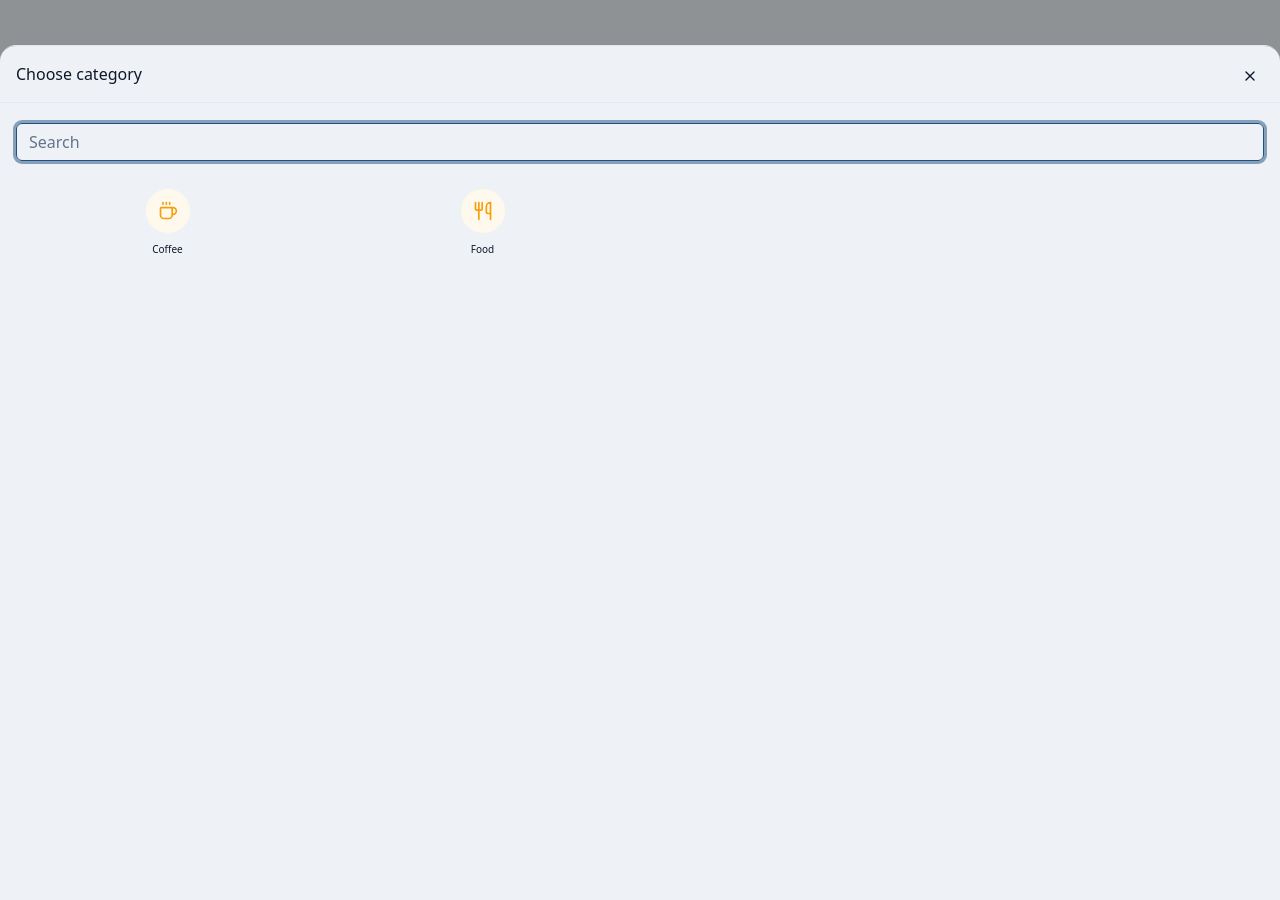
Test case: search filters tiles
Type "food" into the field with placeholder "Search" at (640, 142), box [16,123,1264,161]
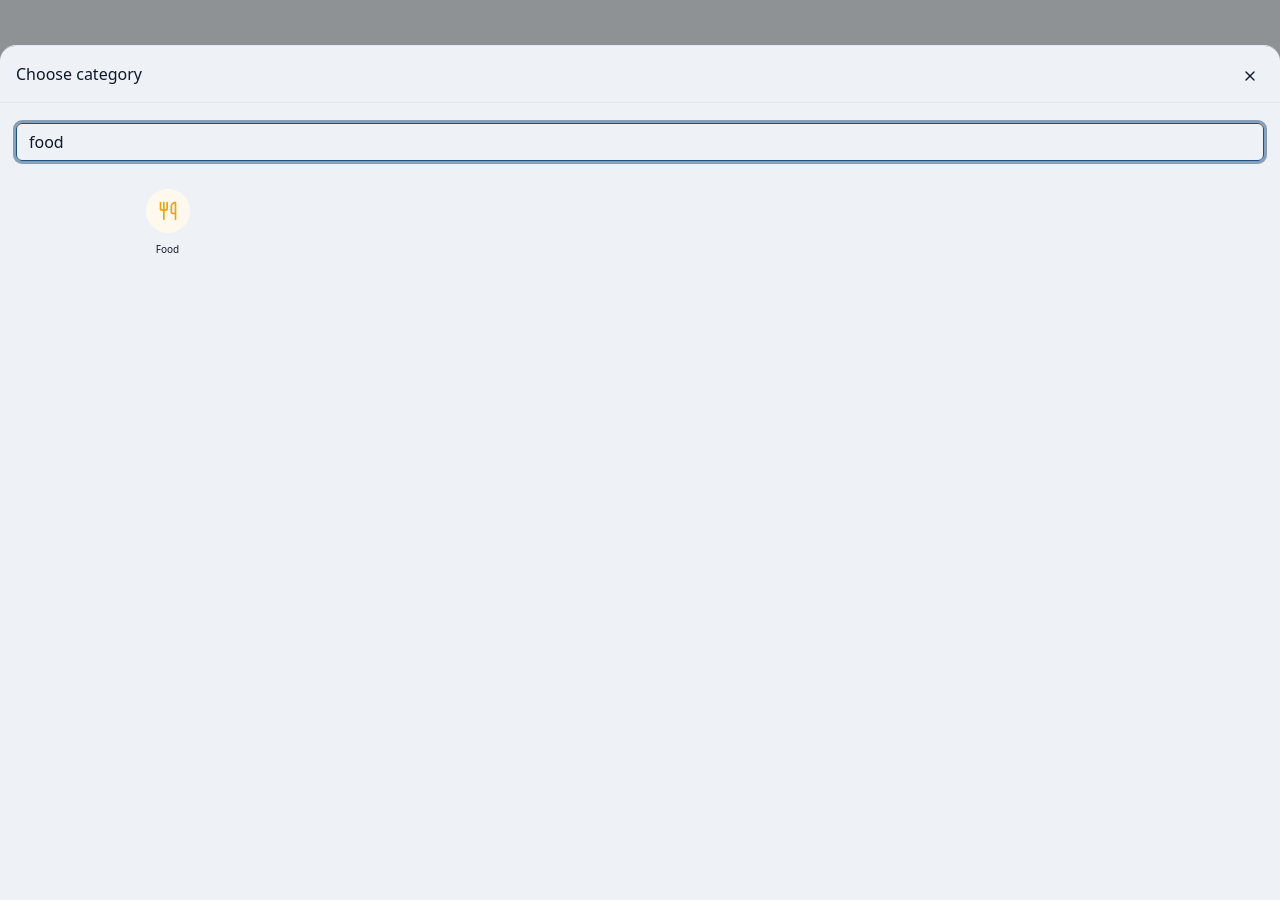
Expected: the text "Food" is shown, [156,242,179,256]
Result: the button "Coffee" is gone
